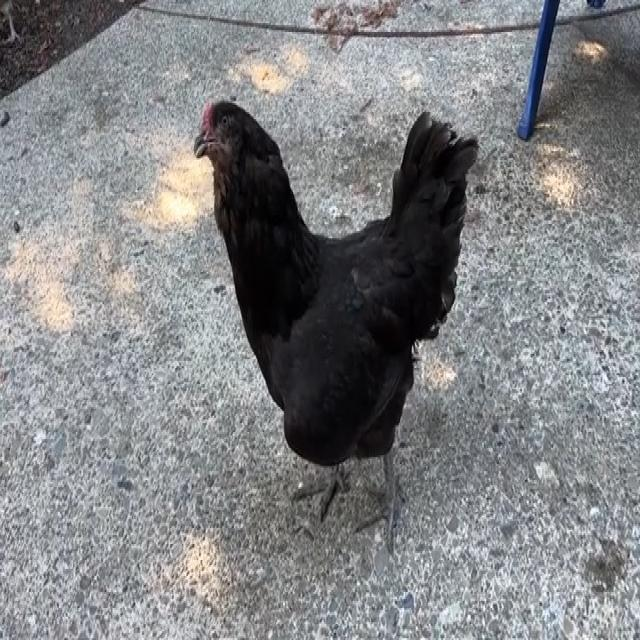Breathing: (192, 94, 478, 555)
